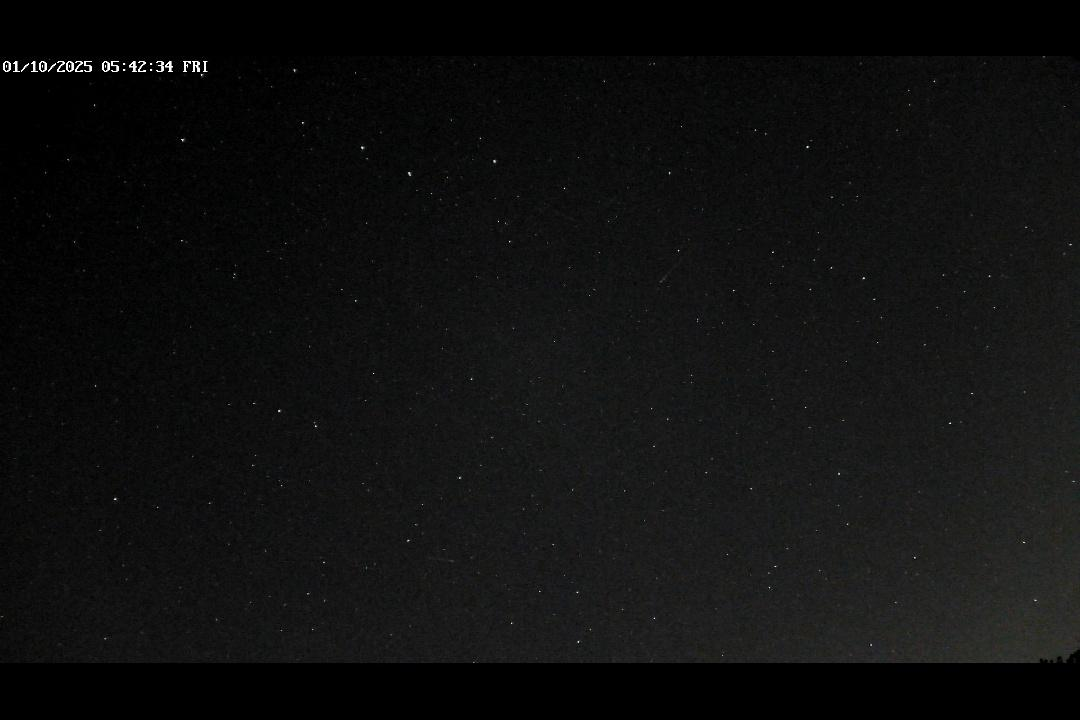Plane: (654, 260, 684, 287), (424, 551, 461, 569)
